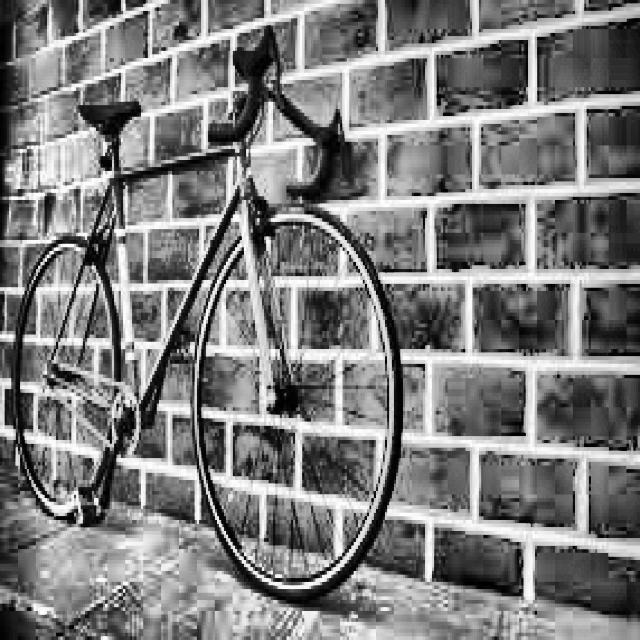bicycle: (12, 21, 407, 613)
